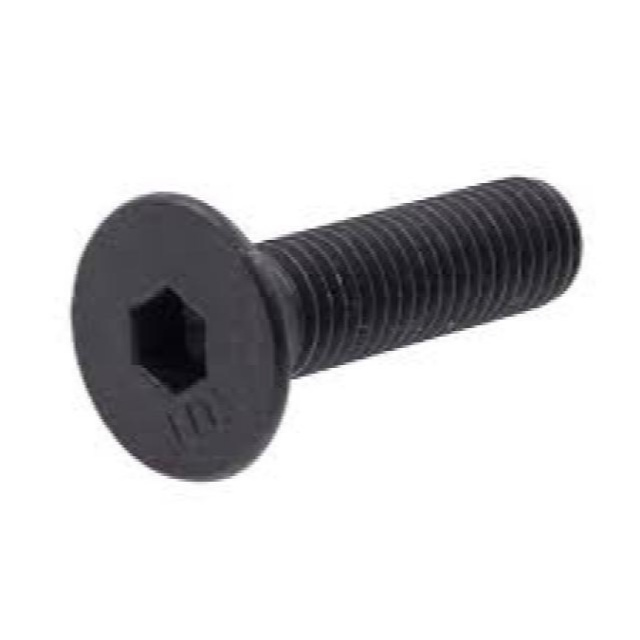torx: (69, 187, 290, 481)
